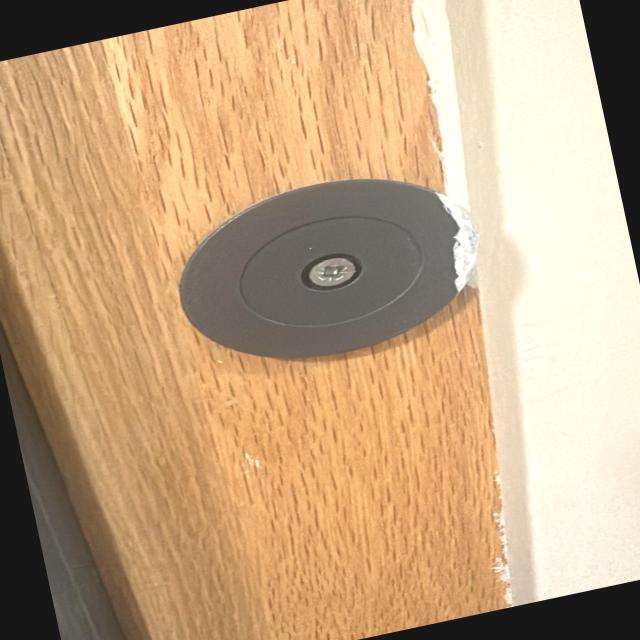Pozidriv: (294, 247, 366, 296)
